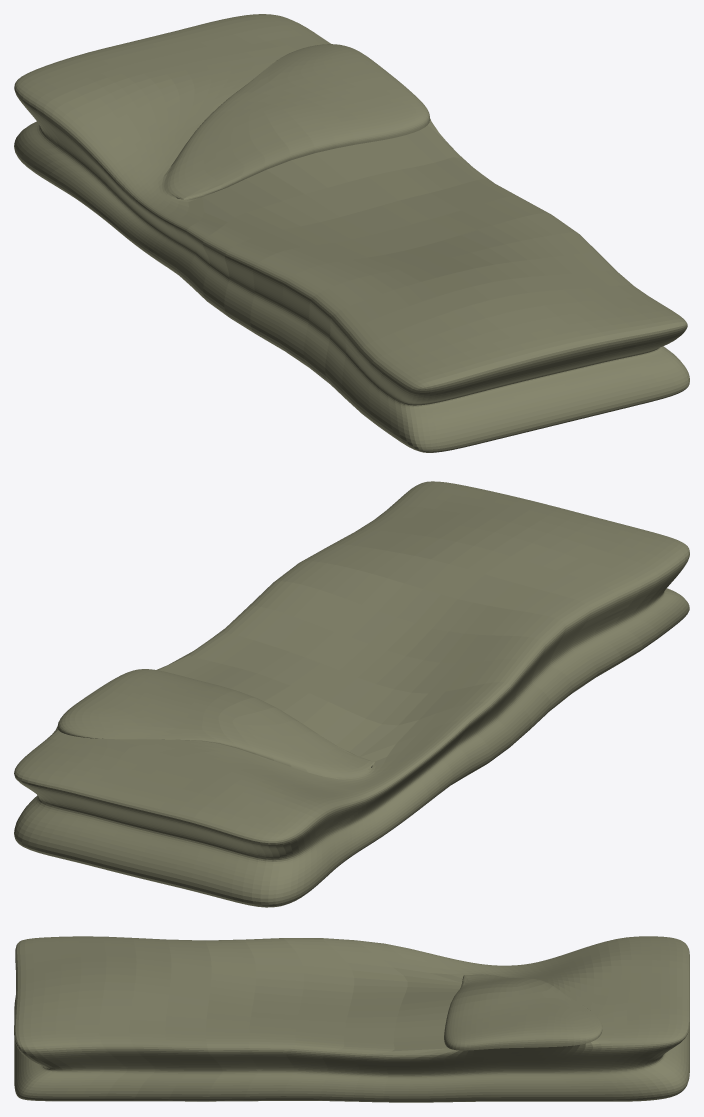
Rendered from FlatSleepingBagModel.fbx.
The picture shows the model from 3 angles, top to bottom: view 1: azimuth 30°, elevation 25°; view 2: azimuth 150°, elevation 25°; view 3: azimuth 270°, elevation 25°; orthographic projection. The views are drawn at different scales.
Parts seen in each view (by area): view 1: Cube; view 2: Cube; view 3: Cube.
Boxes of the visible parts, x1,y1,x2,y2 form: Cube: (14,14,689,452); Cube: (14,481,689,907); Cube: (14,936,689,1102).
Bounding box in the file's own units: 197 × 62.51 × 485.
